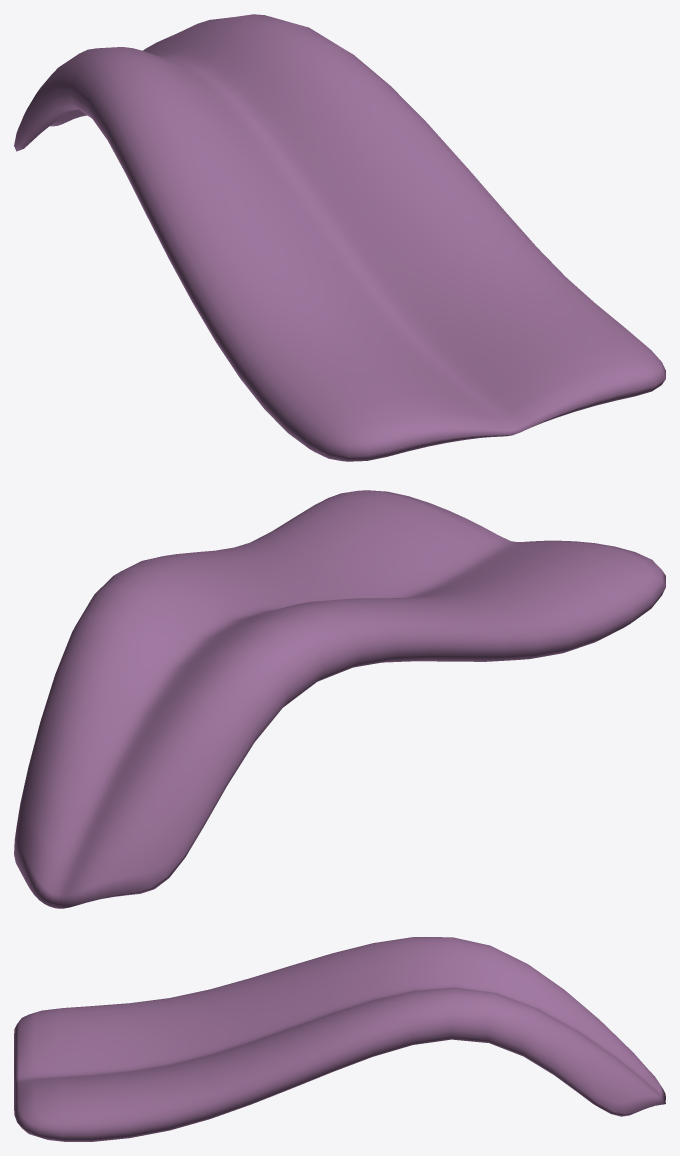
File: Turtle Base_Tongue.fbx
3 renders of one model, top to bottom at view 1: azimuth 30°, elevation 25°; view 2: azimuth 150°, elevation 25°; view 3: azimuth 270°, elevation 25°, orthographic. The views are drawn at different scales.
Parts seen in each view (by area): view 1: Tongue.002; view 2: Tongue.002; view 3: Tongue.002.
Part boxes in pixels (bbox=[...]): Tongue.002: bbox=[14, 14, 665, 461]; Tongue.002: bbox=[14, 490, 665, 908]; Tongue.002: bbox=[14, 937, 665, 1141].
Bounding box in the file's own units: 138 × 71.97 × 316.
